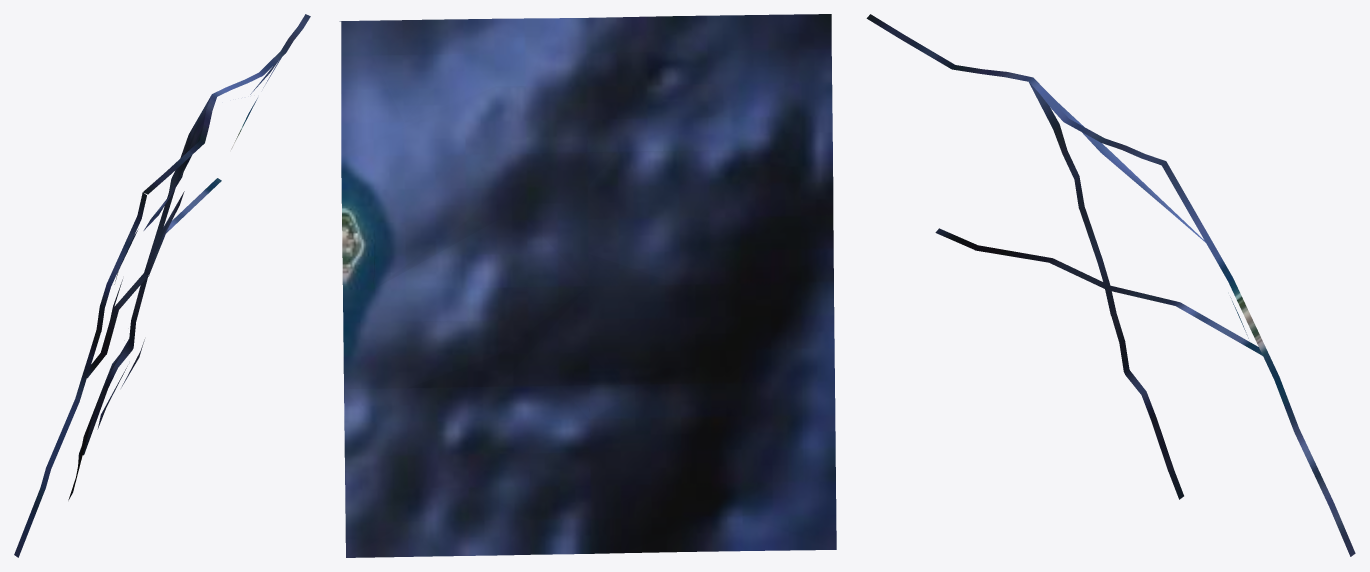
The picture shows the model from 3 angles, left to right: view 1: azimuth 30°, elevation 25°; view 2: azimuth 150°, elevation 25°; view 3: azimuth 270°, elevation 25°; orthographic projection. The views are drawn at different scales.
Size of the model in its own units: 17880 by 19494 by 17992.
Materials: 1 (1 with a texture image).
